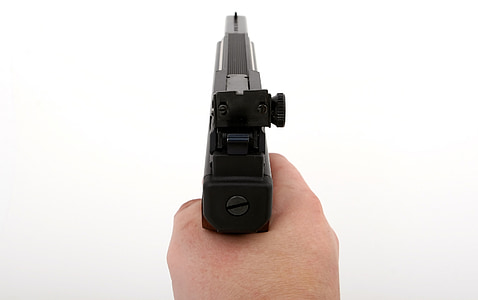pistol: (146, 3, 350, 300)
